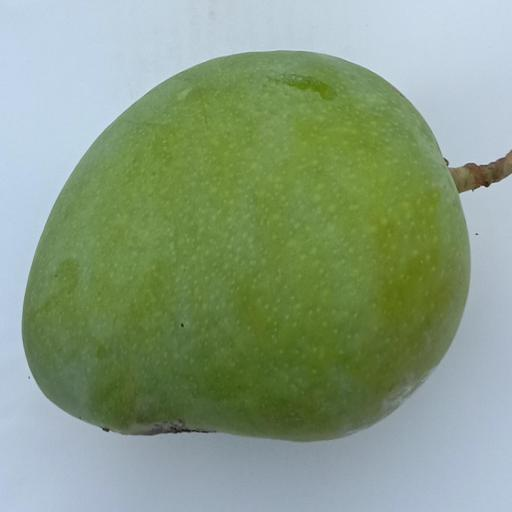mango-unripe: (3, 28, 512, 473)
